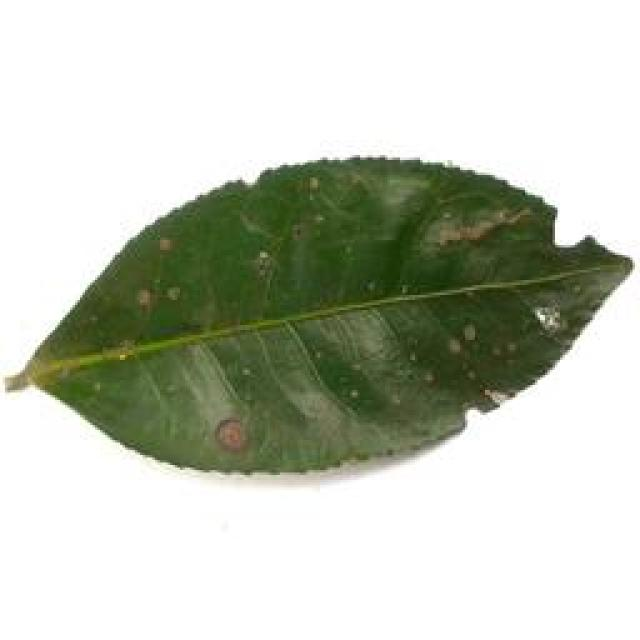Algal Leaf Spot: (26, 148, 629, 490)
